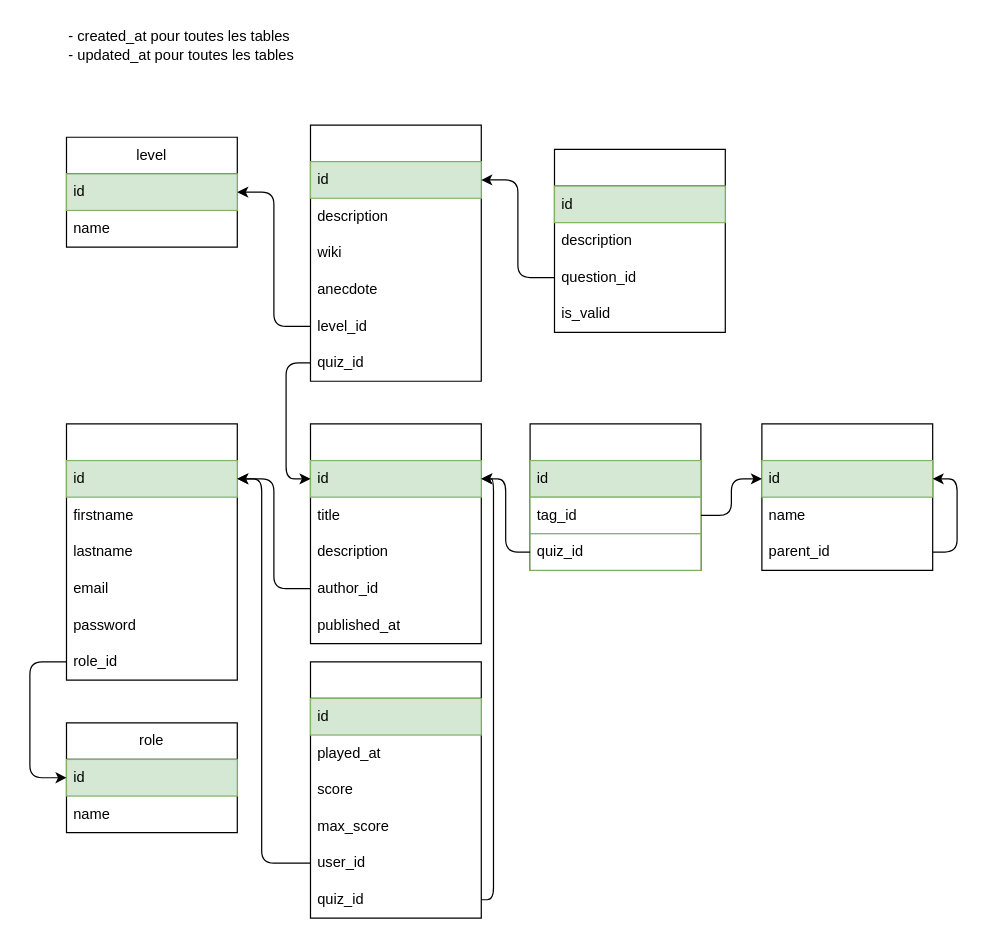
The diagram is 988 pixels wide and 939 high, and some of its shapes have lost their labels. The box of each missing label's shape, as (x1, y1, x2, y2) in pixels:
answer: (553, 148, 725, 332)
attempt: (309, 661, 481, 918)
question: (309, 124, 481, 381)
quiz: (309, 423, 481, 644)
quiz_has_tag: (529, 423, 701, 570)
tag: (761, 423, 933, 570)
user: (65, 423, 237, 680)
